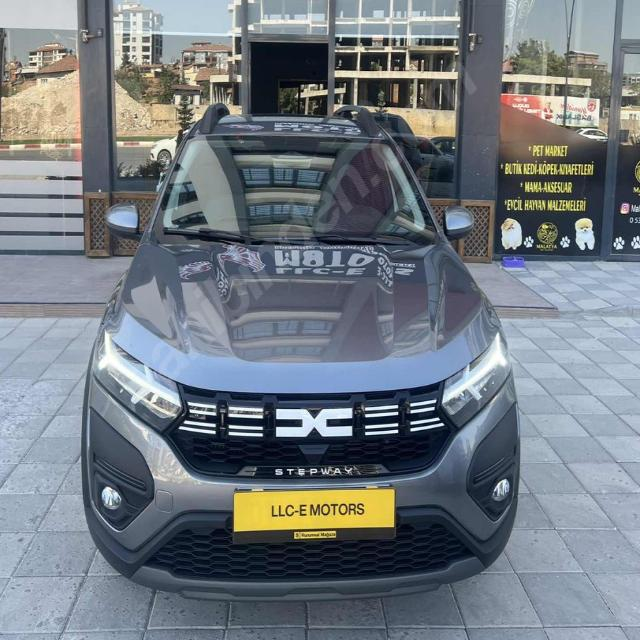dacia: (273, 401, 359, 446)
